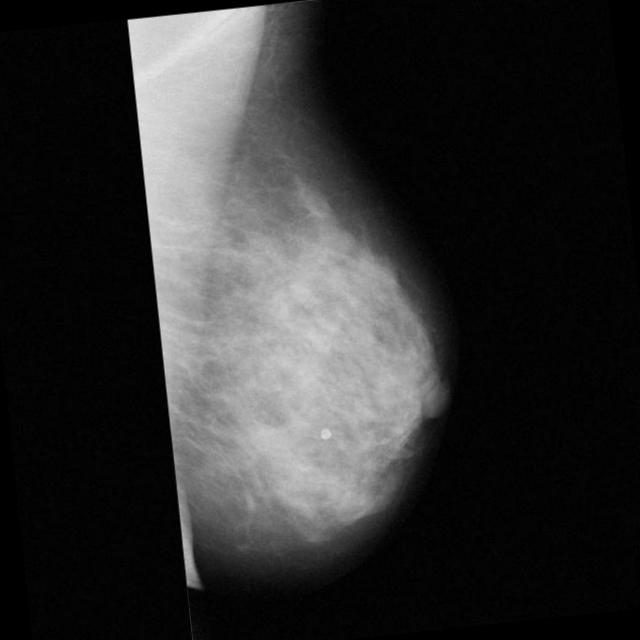CALC: (322, 342, 334, 354)
